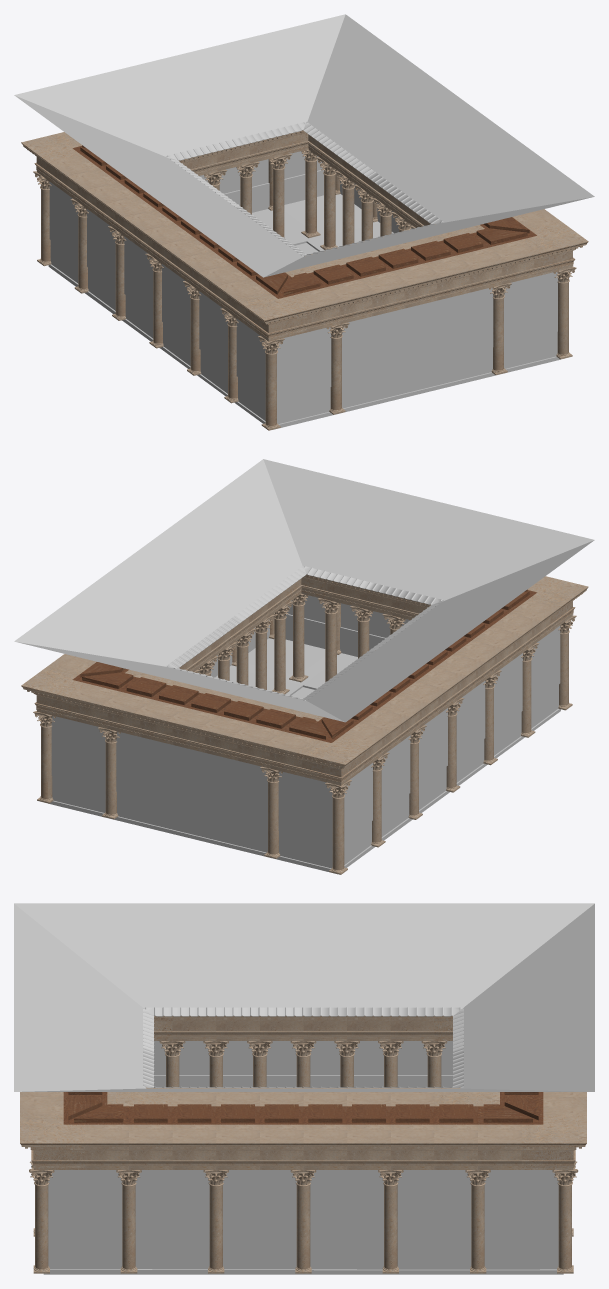
Rendered from Projet Architectures Atrium 5.fbx.
3 renders of one model, top to bottom at view 1: azimuth 30°, elevation 25°; view 2: azimuth 150°, elevation 25°; view 3: azimuth 270°, elevation 25°, orthographic. The views are drawn at different scales.
Parts seen in each view (by area): view 1: Roof, wall, Tuile Array.001, floor, Cube Frise décoration Angle.036, Cube Frise décoration Angle.044, Cube Frise décoration Angle.025, Cube Frise décoration Middle.042, Cube Frise décoration Middle.045, Cube Frise décoration Middle.037, Cube Frise décoration Middle.043, Cube Frise décoration Middle.046 (+38 smaller); view 2: Roof, wall, Tuile Array.001, floor, Cube Frise décoration Angle.025, Cube Frise décoration Angle.055, Cube Frise décoration Angle.036, Cube Frise décoration Middle.026, Cube Frise décoration Middle.030, Cube Frise décoration Middle.061, Cube Frise décoration Middle.029, Cube Frise décoration Middle.027 (+37 smaller); view 3: Roof, wall, Tuile Array.001, Cube Frise décoration Angle.055, Cube Frise décoration Angle.044, Cube Frise décoration Middle.051, Cube Frise décoration Middle.054, Cube Frise décoration Middle.047, Cube Frise décoration Middle.050, Cube Frise décoration Middle.052, Cube Frise décoration Middle.053, Cube Frise décoration Middle.057 (+37 smaller).
Part boxes in pixels (x1,y1,x2,y2): Roof: (14, 14, 594, 277); wall: (48, 151, 560, 429); Tuile Array.001: (166, 121, 443, 256); floor: (50, 194, 556, 424); Cube Frise décoration Angle.036: (236, 292, 312, 341); Cube Frise décoration Angle.044: (522, 221, 588, 276); Cube Frise décoration Angle.025: (21, 132, 81, 187); Cube Frise décoration Middle.042: (327, 279, 377, 324); Cube Frise décoration Middle.045: (392, 263, 442, 308); Cube Frise décoration Middle.037: (359, 271, 410, 316); Cube Frise décoration Middle.043: (295, 287, 345, 332); Cube Frise décoration Middle.046: (424, 255, 475, 300); Roof: (14, 459, 594, 722); wall: (49, 595, 560, 874); Tuile Array.001: (166, 566, 443, 700); floor: (53, 638, 558, 868); Cube Frise décoration Angle.025: (296, 736, 373, 785); Cube Frise décoration Angle.055: (21, 665, 87, 720); Cube Frise décoration Angle.036: (527, 576, 588, 631); Cube Frise décoration Middle.026: (167, 707, 217, 752); Cube Frise décoration Middle.030: (264, 731, 314, 776); Cube Frise décoration Middle.061: (102, 692, 152, 736); Cube Frise décoration Middle.029: (232, 723, 282, 768); Cube Frise décoration Middle.027: (199, 715, 249, 760); Roof: (14, 903, 594, 1091); wall: (43, 1041, 563, 1274); Tuile Array.001: (143, 1007, 463, 1087); Cube Frise décoration Angle.055: (521, 1115, 586, 1169); Cube Frise décoration Angle.044: (20, 1115, 85, 1169); Cube Frise décoration Middle.051: (172, 1124, 216, 1169); Cube Frise décoration Middle.054: (303, 1124, 347, 1169); Cube Frise décoration Middle.047: (85, 1124, 128, 1169); Cube Frise décoration Middle.050: (129, 1124, 172, 1169); Cube Frise décoration Middle.052: (216, 1124, 259, 1169); Cube Frise décoration Middle.053: (260, 1124, 303, 1169); Cube Frise décoration Middle.057: (347, 1124, 390, 1169).
Size of the model in its own units: 2045 by 984 by 2663.
